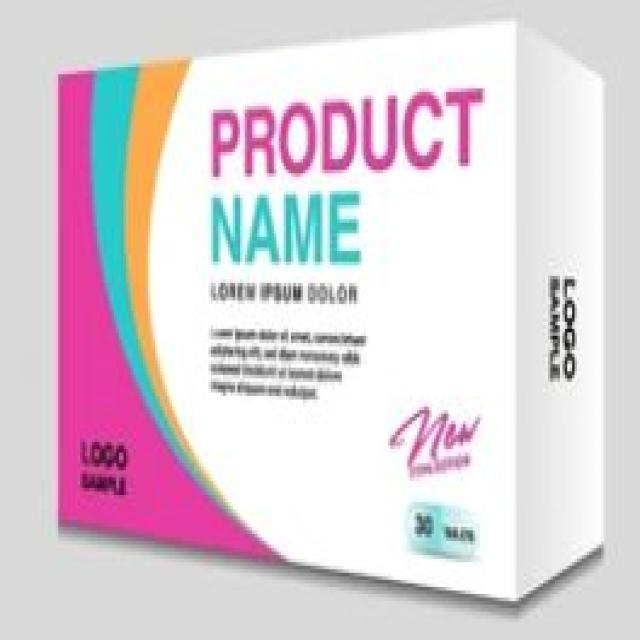electronic: (53, 14, 604, 605)
